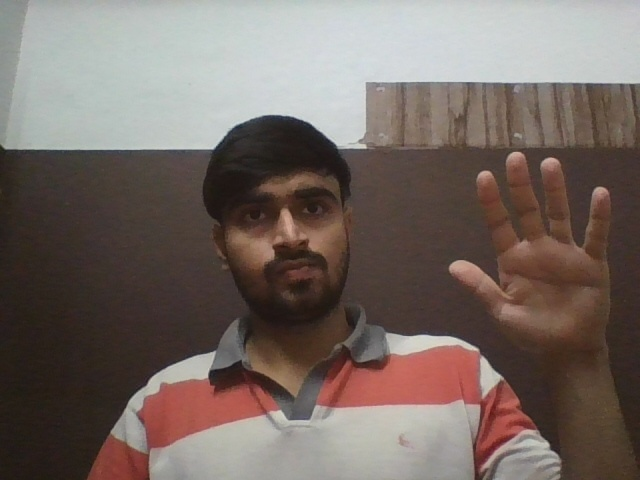Hello: (447, 150, 612, 343)
